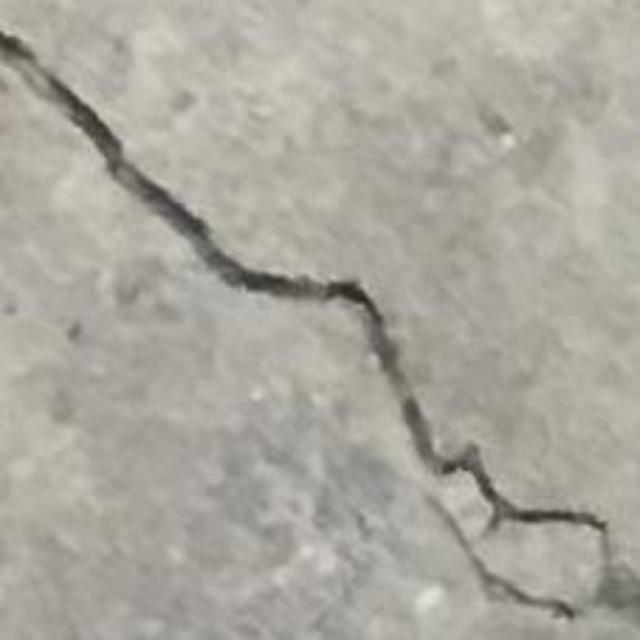crack: (0, 29, 639, 617)
